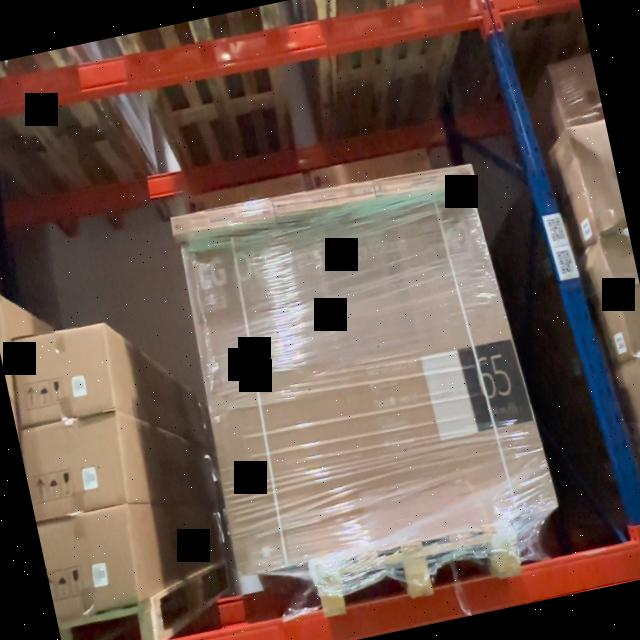box: (184, 192, 535, 568), (170, 194, 276, 242), (275, 176, 377, 224), (382, 158, 474, 197)
